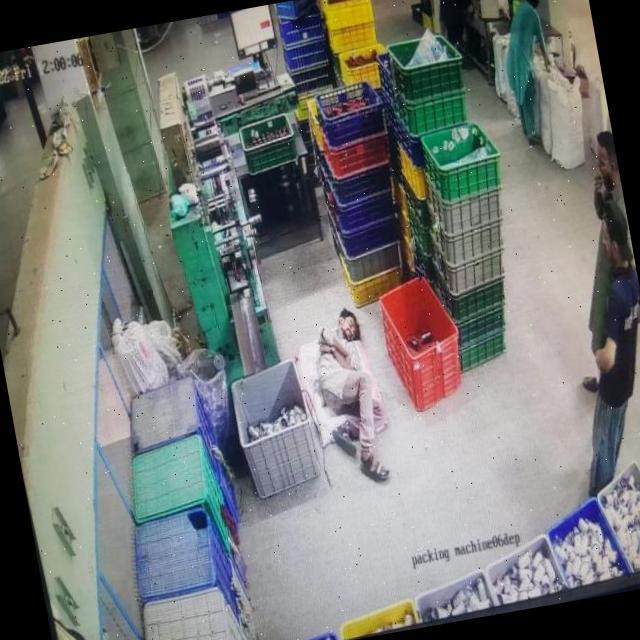person: (545, 202, 640, 487), (539, 124, 640, 389), (304, 301, 399, 493), (495, 0, 567, 147), (487, 0, 512, 24)
